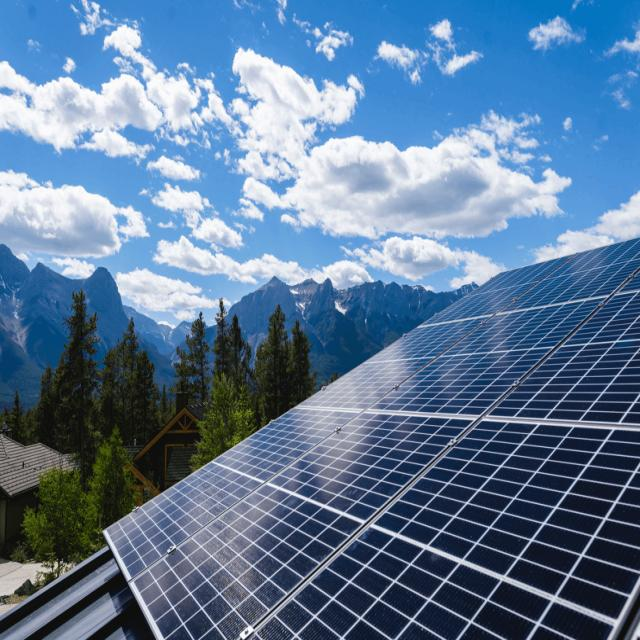clean-solar-panel: (105, 240, 640, 638)
